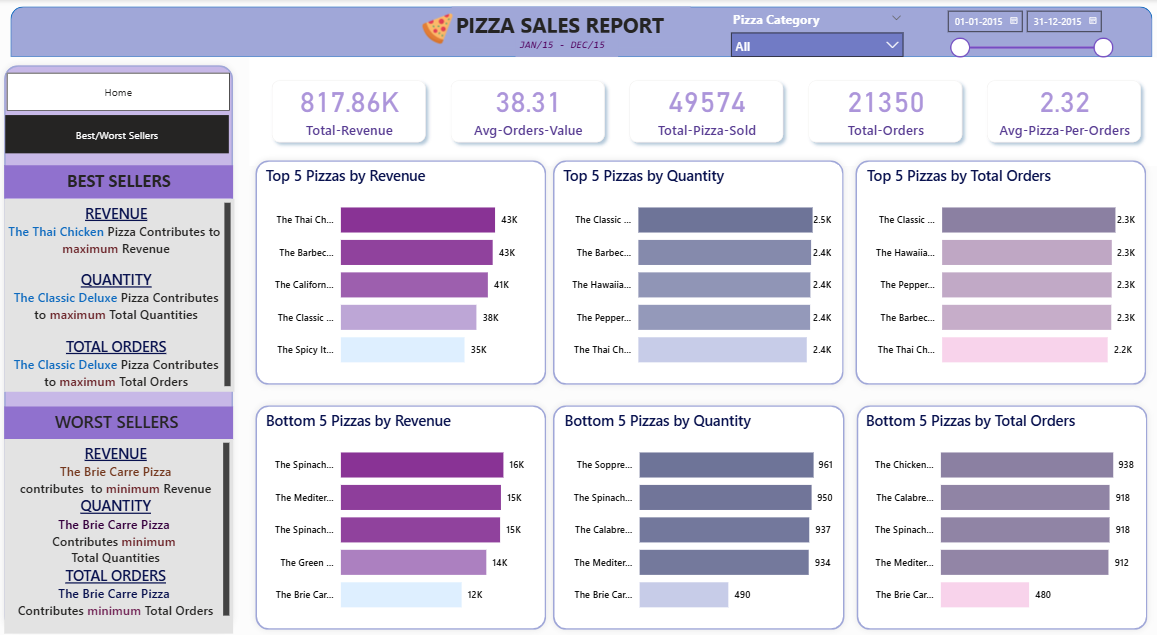

This screenshot's page, from the dashboard's own definition file:
{"tool":"powerbi","page":{"name":"Best/Worst Sellers","canvas":[1500,820],"ordinal":1},"visuals":[{"type":"shape","box":[0,77.9,310.3,742.4],"z":0},{"type":"textbox","box":[8.5,213.9,294.7,42.5],"z":1000},{"type":"cardVisual","fields":{"Data":["public pizza_sales.Total-Revenue","public pizza_sales.Avg-Orders-Value","public pizza_sales.Total-Pizza-Sold","public pizza_sales.Total-Orders","public pizza_sales.Avg-Pizza-Per-Orders"]},"box":[323,75.1,1177.3,138.8],"z":2000},{"type":"shape","box":[15.6,9.9,1469.2,65.2],"z":3000},{"type":"textbox","box":[583.7,9.9,307.4,52.4],"z":4000},{"type":"textbox","box":[665.9,43.9,131.8,31.2],"z":5000},{"type":"image","box":[517.1,18.4,94.9,41.1],"z":6000},{"type":"shape","box":[323,199.8,390,305],"z":7000},{"type":"textbox","box":[8,257.3,295.9,247.6],"z":8000},{"type":"textbox","box":[8.5,524.2,294.7,42.5],"z":9000},{"type":"textbox","box":[8.5,566.7,294.7,250.8],"z":10000},{"type":"slicer","fields":{"Values":["public pizza_sales.pizza_category"]},"box":[932.2,9.9,242.3,65.2],"z":11000},{"type":"slicer","fields":{"Values":["public pizza_sales.order_date"]},"box":[1209.9,4.3,233.8,73.7],"z":12000},{"type":"shape","box":[1095.1,199.8,390,305],"z":13000},{"type":"shape","box":[705.5,199.8,390,305],"z":14000},{"type":"shape","box":[1096.6,514.3,390,305],"z":15000},{"type":"shape","box":[705.5,514.3,391,305],"z":16000},{"type":"shape","box":[323,514.3,390,305],"z":17000},{"type":"clusteredBarChart","title":"Top 5 Pizzas by Revenue","fields":{"Category":["public pizza_sales.pizza_name"],"Y":["public pizza_sales.Total-Revenue"]},"box":[339.3,213.9,355.4,276.6],"z":18000},{"type":"clusteredBarChart","title":"Bottom 5 Pizzas by Revenue","fields":{"Category":["public pizza_sales.pizza_name"],"Y":["public pizza_sales.Total-Revenue"]},"box":[339.3,529.1,355.4,276.6],"z":19000},{"type":"clusteredBarChart","title":"Top 5 Pizzas by Quantity","fields":{"Category":["public pizza_sales.pizza_name"],"Y":["public pizza_sales.Total-Pizza-Sold"]},"box":[722,213.9,355.4,276.6],"z":20000},{"type":"clusteredBarChart","title":"Bottom 5 Pizzas by Quantity","fields":{"Category":["public pizza_sales.pizza_name"],"Y":["public pizza_sales.Total-Pizza-Sold"]},"box":[723.6,529.1,355.4,276.6],"z":21000},{"type":"clusteredBarChart","title":"Top 5 Pizzas by Total Orders","fields":{"Category":["public pizza_sales.pizza_name"],"Y":["public pizza_sales.Total-Orders"]},"box":[1112.8,213.9,355.4,276.6],"z":22000},{"type":"clusteredBarChart","title":"Bottom 5 Pizzas by Total Orders","fields":{"Category":["public pizza_sales.pizza_name"],"Y":["public pizza_sales.Total-Orders"]},"box":[1111.2,529.1,355.4,276.6],"z":23000},{"type":"pageNavigator","box":[11.3,94.9,287.8,49.9],"z":24000},{"type":"pageNavigator","box":[9.6,149.6,287.8,49.9],"z":25000}]}

Visuals, with their boxes in screenshot pixels (x1, y1, x2, y2), scaled from the page's 1500x820 canvas onto the 1157x635 screenshot:
shape: (left=0, top=60, right=239, bottom=634)
textbox: (left=7, top=166, right=234, bottom=199)
cardVisual - public pizza_sales.Total-Revenue x public pizza_sales.Avg-Orders-Value: (left=249, top=58, right=1156, bottom=166)
shape: (left=12, top=8, right=1145, bottom=58)
textbox: (left=450, top=8, right=687, bottom=48)
textbox: (left=514, top=34, right=615, bottom=58)
image: (left=399, top=14, right=472, bottom=46)
shape: (left=249, top=155, right=550, bottom=391)
textbox: (left=6, top=199, right=234, bottom=391)
textbox: (left=7, top=406, right=234, bottom=439)
textbox: (left=7, top=439, right=234, bottom=633)
slicer - public pizza_sales.pizza_category: (left=719, top=8, right=906, bottom=58)
slicer - public pizza_sales.order_date: (left=933, top=3, right=1114, bottom=60)
shape: (left=845, top=155, right=1146, bottom=391)
shape: (left=544, top=155, right=845, bottom=391)
shape: (left=846, top=398, right=1147, bottom=634)
shape: (left=544, top=398, right=846, bottom=634)
shape: (left=249, top=398, right=550, bottom=634)
"Top 5 Pizzas by Revenue" clusteredBarChart: (left=262, top=166, right=536, bottom=380)
"Bottom 5 Pizzas by Revenue" clusteredBarChart: (left=262, top=410, right=536, bottom=624)
"Top 5 Pizzas by Quantity" clusteredBarChart: (left=557, top=166, right=831, bottom=380)
"Bottom 5 Pizzas by Quantity" clusteredBarChart: (left=558, top=410, right=832, bottom=624)
"Top 5 Pizzas by Total Orders" clusteredBarChart: (left=858, top=166, right=1132, bottom=380)
"Bottom 5 Pizzas by Total Orders" clusteredBarChart: (left=857, top=410, right=1131, bottom=624)
pageNavigator: (left=9, top=73, right=231, bottom=112)
pageNavigator: (left=7, top=116, right=229, bottom=154)
